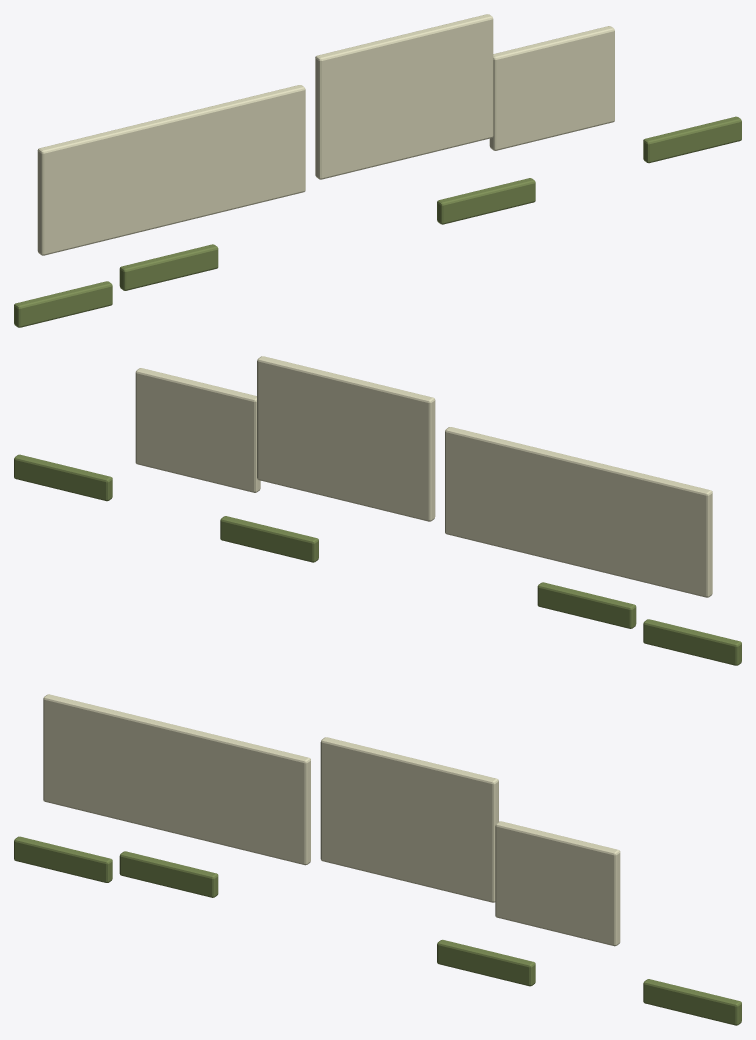
The model's file is overlay_lime_repair__weathering.glb.
3 renders of one model, top to bottom at view 1: azimuth 30°, elevation 25°; view 2: azimuth 150°, elevation 25°; view 3: azimuth 330°, elevation 25°, orthographic.
Parts seen in each view (by area): view 1: overlay_lime_repair__weathering__mesh_00; view 2: overlay_lime_repair__weathering__mesh_00; view 3: overlay_lime_repair__weathering__mesh_00.
Part boxes in pixels (x1,y1,x2,y2): overlay_lime_repair__weathering__mesh_00: (14,14,741,327); overlay_lime_repair__weathering__mesh_00: (14,356,741,665); overlay_lime_repair__weathering__mesh_00: (14,694,741,1025).
Bounding box in the file's own units: 1.37 × 0.35 × 0.027.
